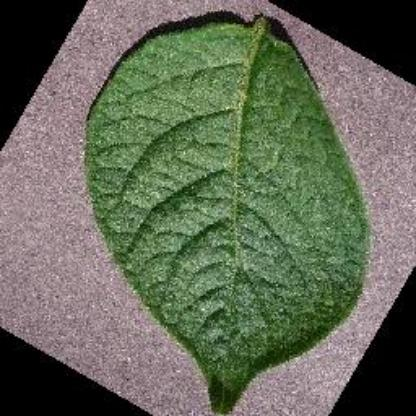Healthy-plant: (85, 10, 376, 412)
